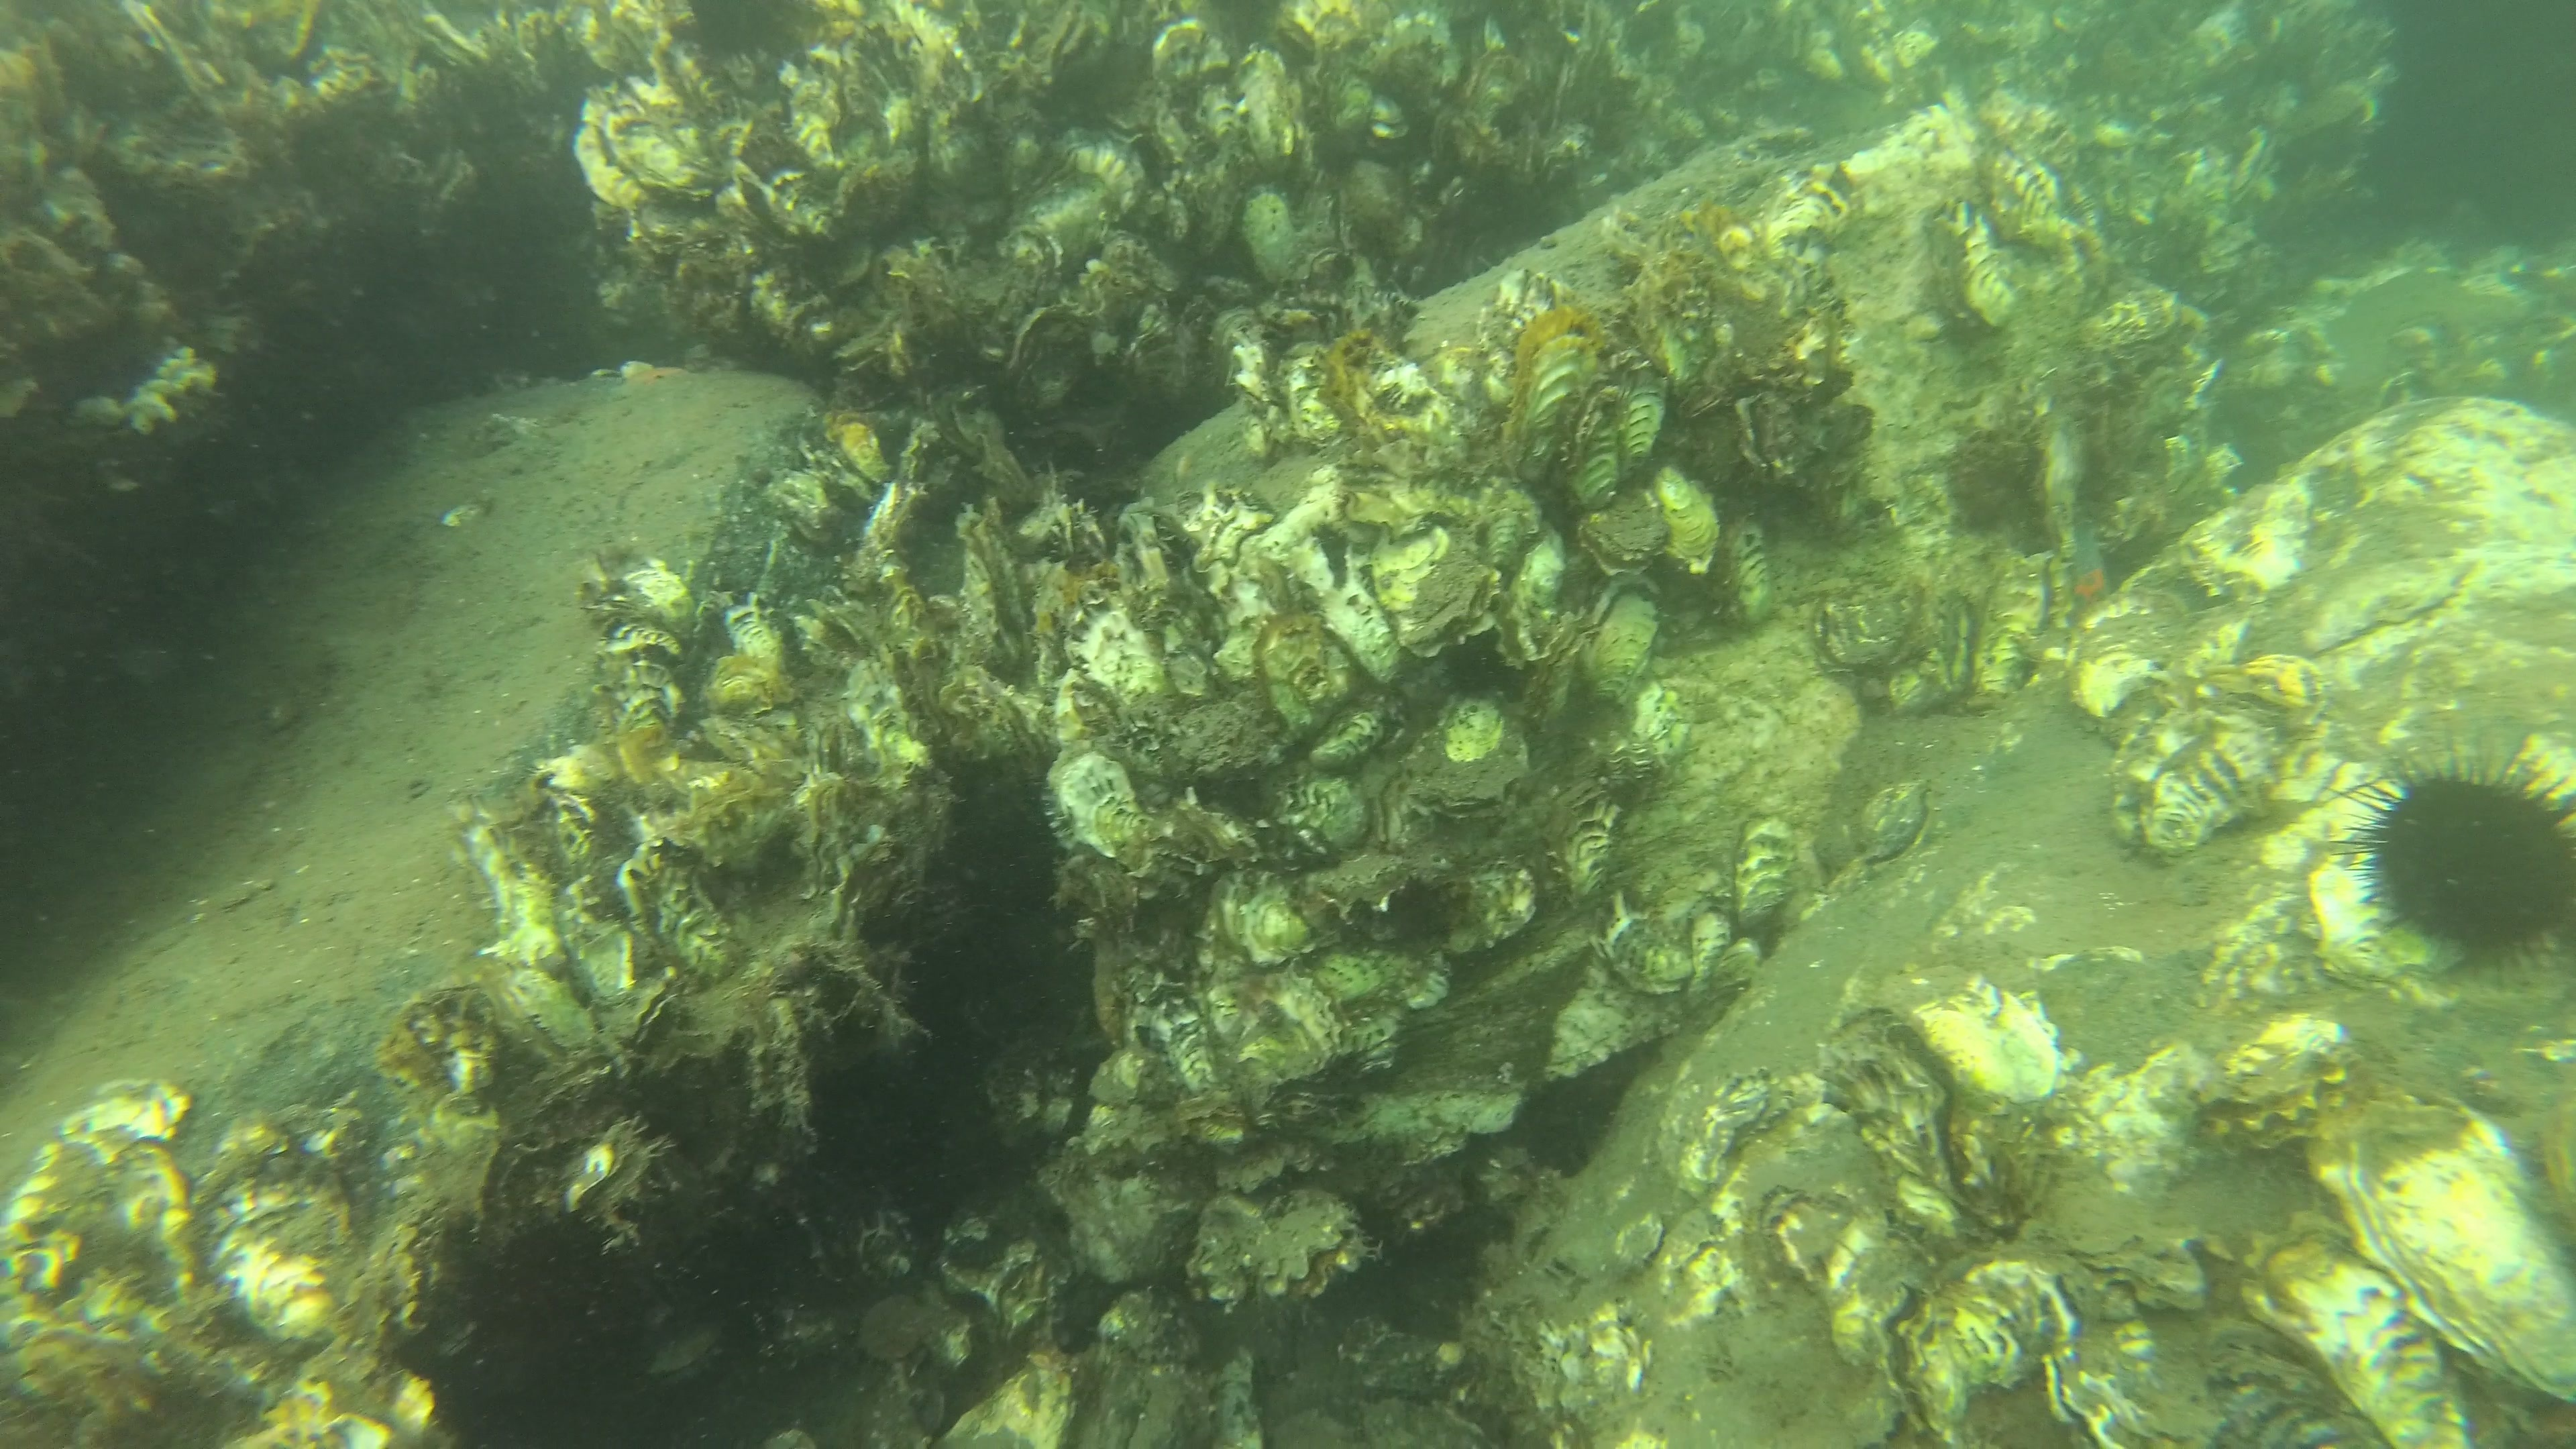echinus: (2337, 725, 2574, 993)
